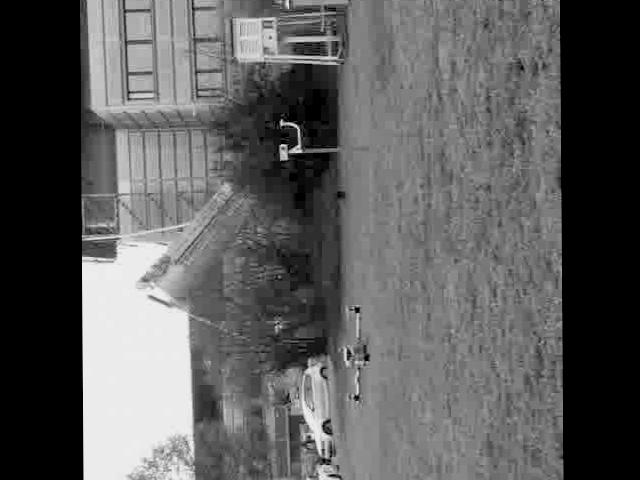drone: (337, 301, 371, 403)
